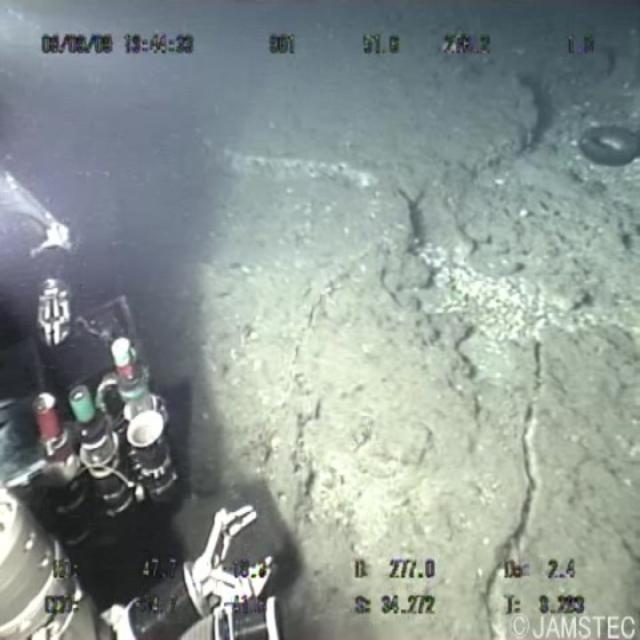Rubber: (552, 108, 640, 193)
